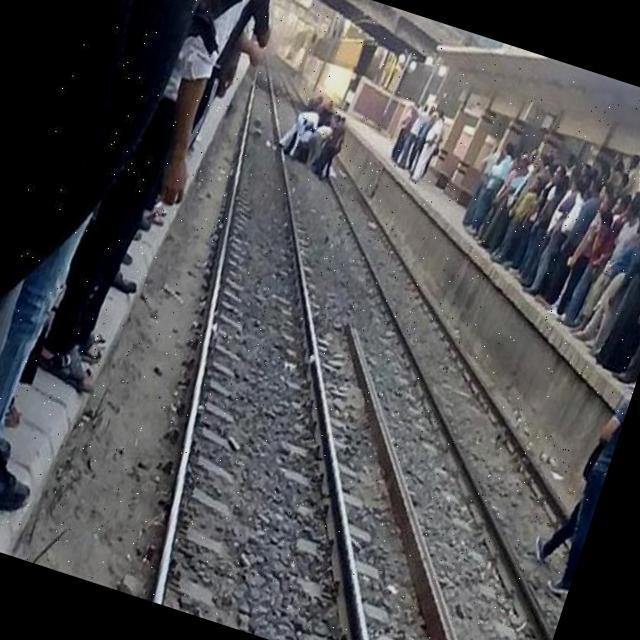person: (517, 368, 636, 602), (542, 172, 606, 316), (597, 198, 640, 380), (560, 206, 622, 330), (468, 138, 520, 246), (493, 170, 546, 272), (408, 106, 450, 188), (312, 109, 348, 182), (397, 100, 432, 172), (387, 96, 420, 166)
